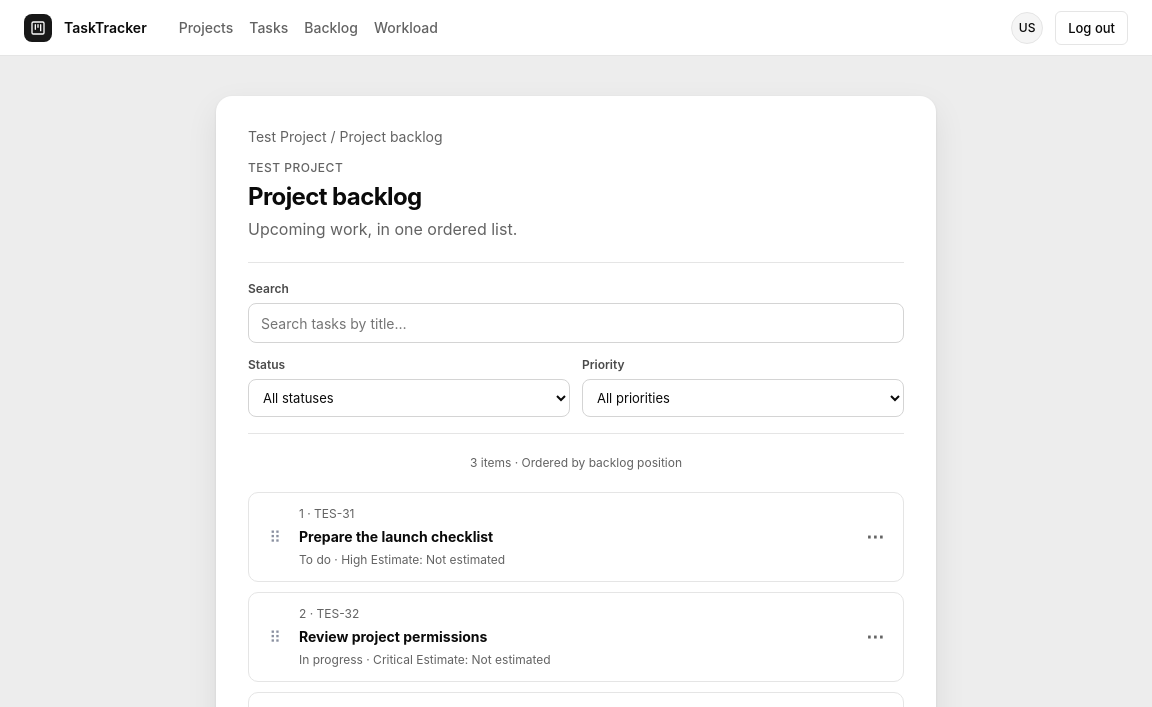
Scenario: [US-24] Prioritize and Reorder Backlog Items (T1WOR-163) › rolls back optimistic move when rankTask fails and displays error alert (State 08)
Expected: the heading "Project backlog" is shown, [248,181,422,213]
Move task 1 down
Click the button with test id "backlog-item-actions-btn-task-1": (875, 537) [861,523,889,551]
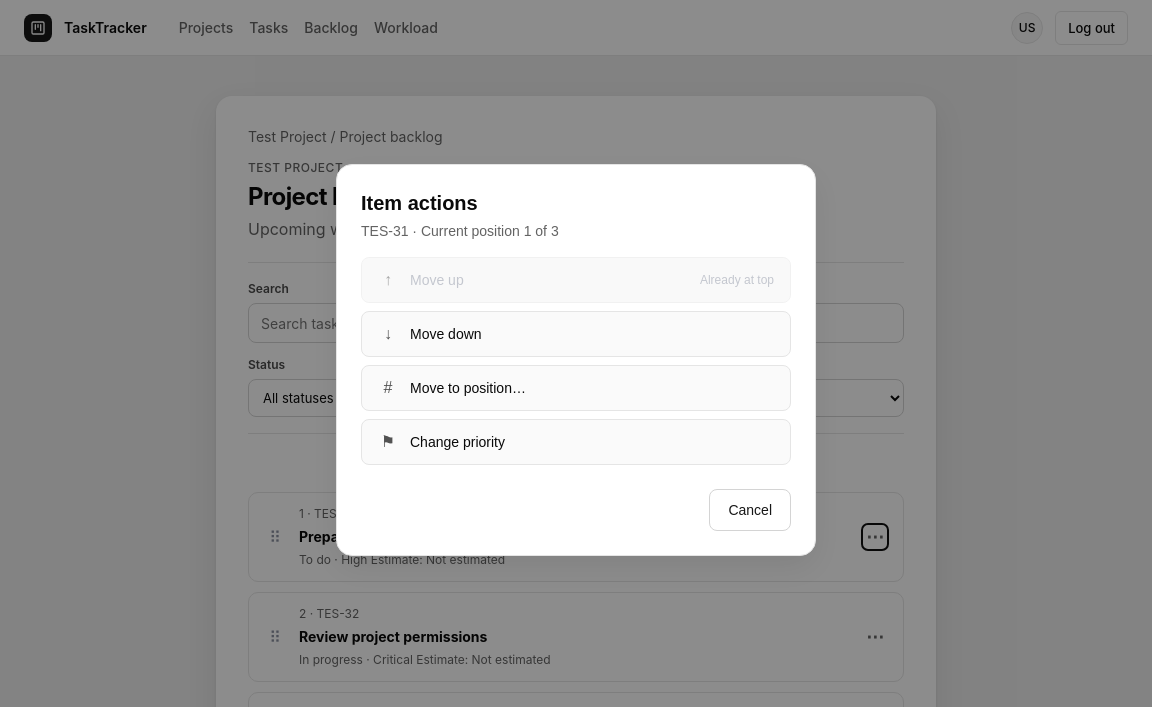
Click the button with test id "backlog-action-move-down": (446, 334) [361,311,791,357]
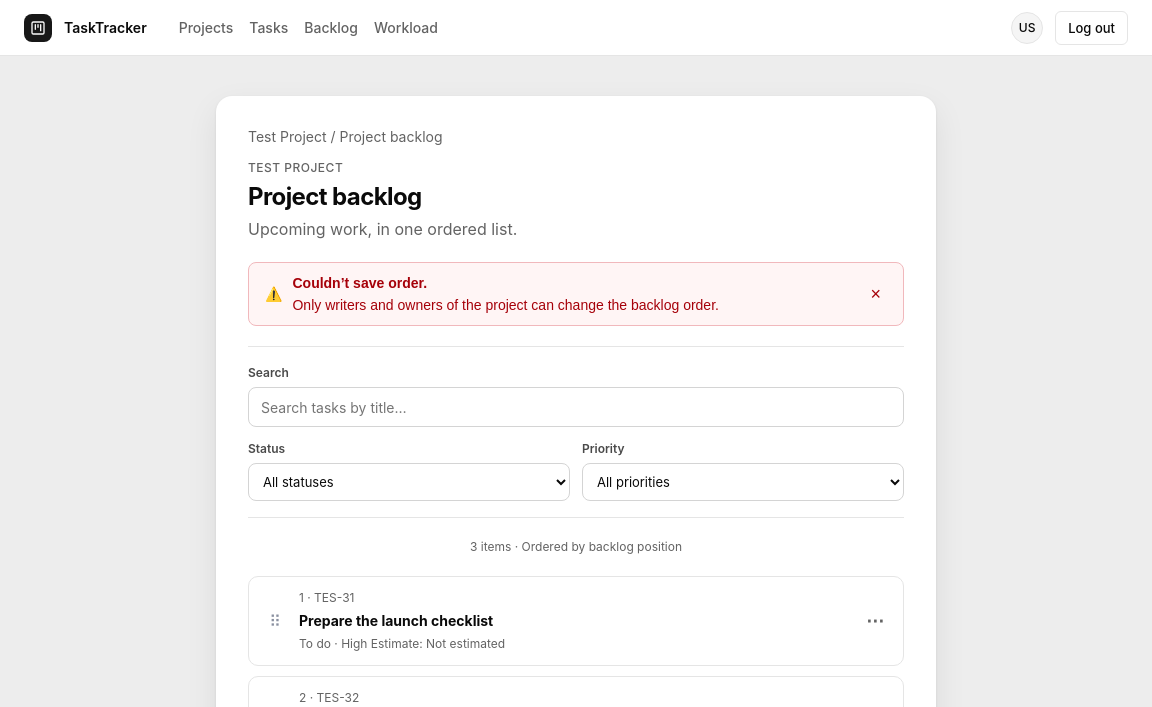
Expected: the text "1 · TES-31" is shown, [299,590,354,605]
Expected: the message with test id "backlog-reorder-error-banner" is shown, [248,262,904,326]
Expected: the message with test id "backlog-reorder-error-banner" shows "Only writers and owners of the project can change the backlog order.", [292,297,719,313]
